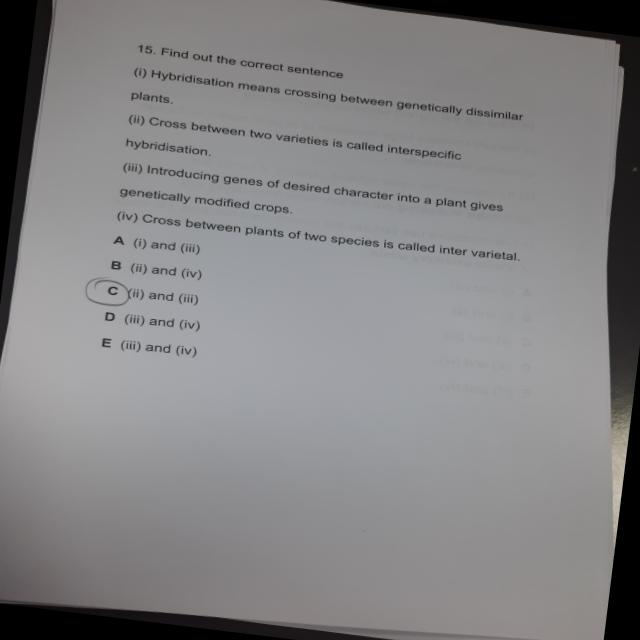C: (81, 276, 135, 313)
